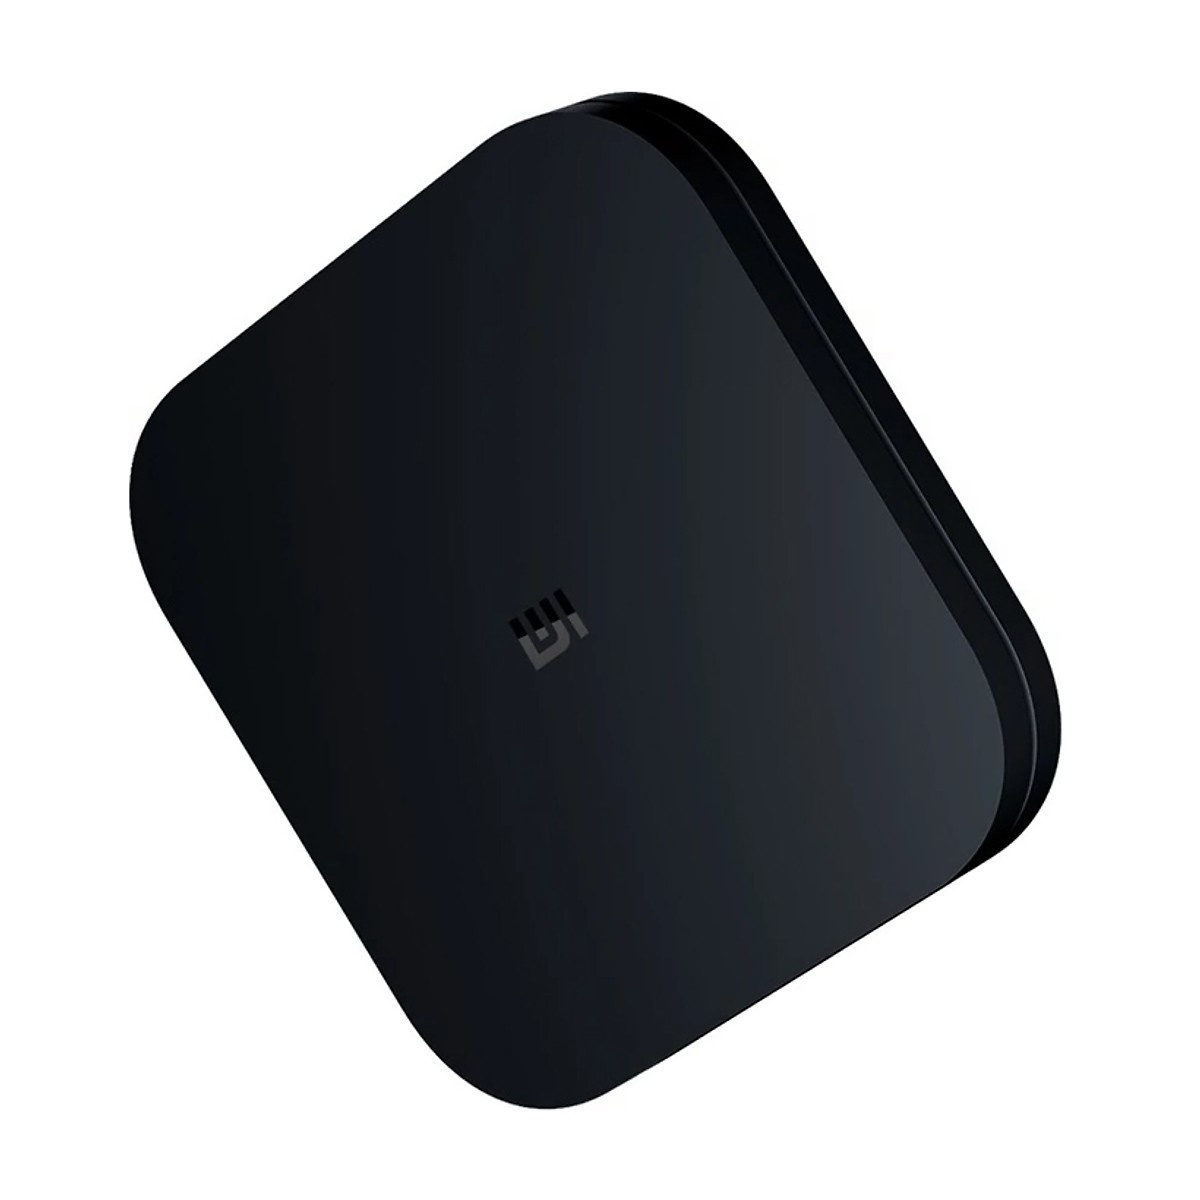Xiaomi: (432, 498, 641, 699)
